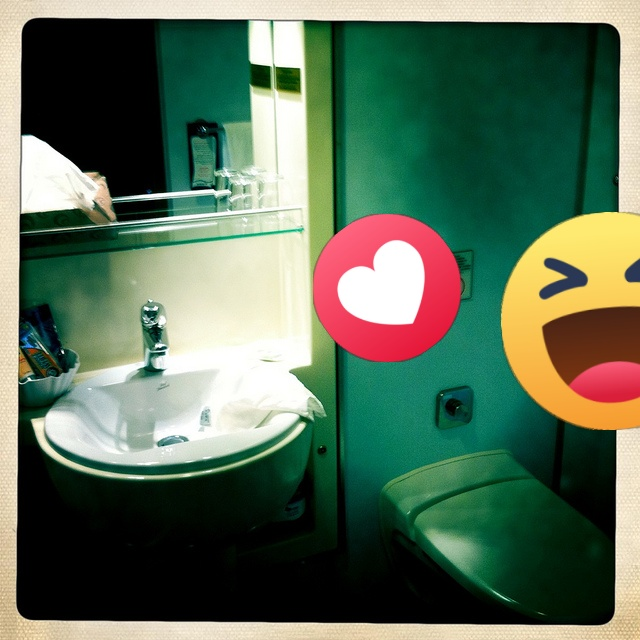haha: (501, 212, 640, 430)
love: (313, 214, 461, 362)
